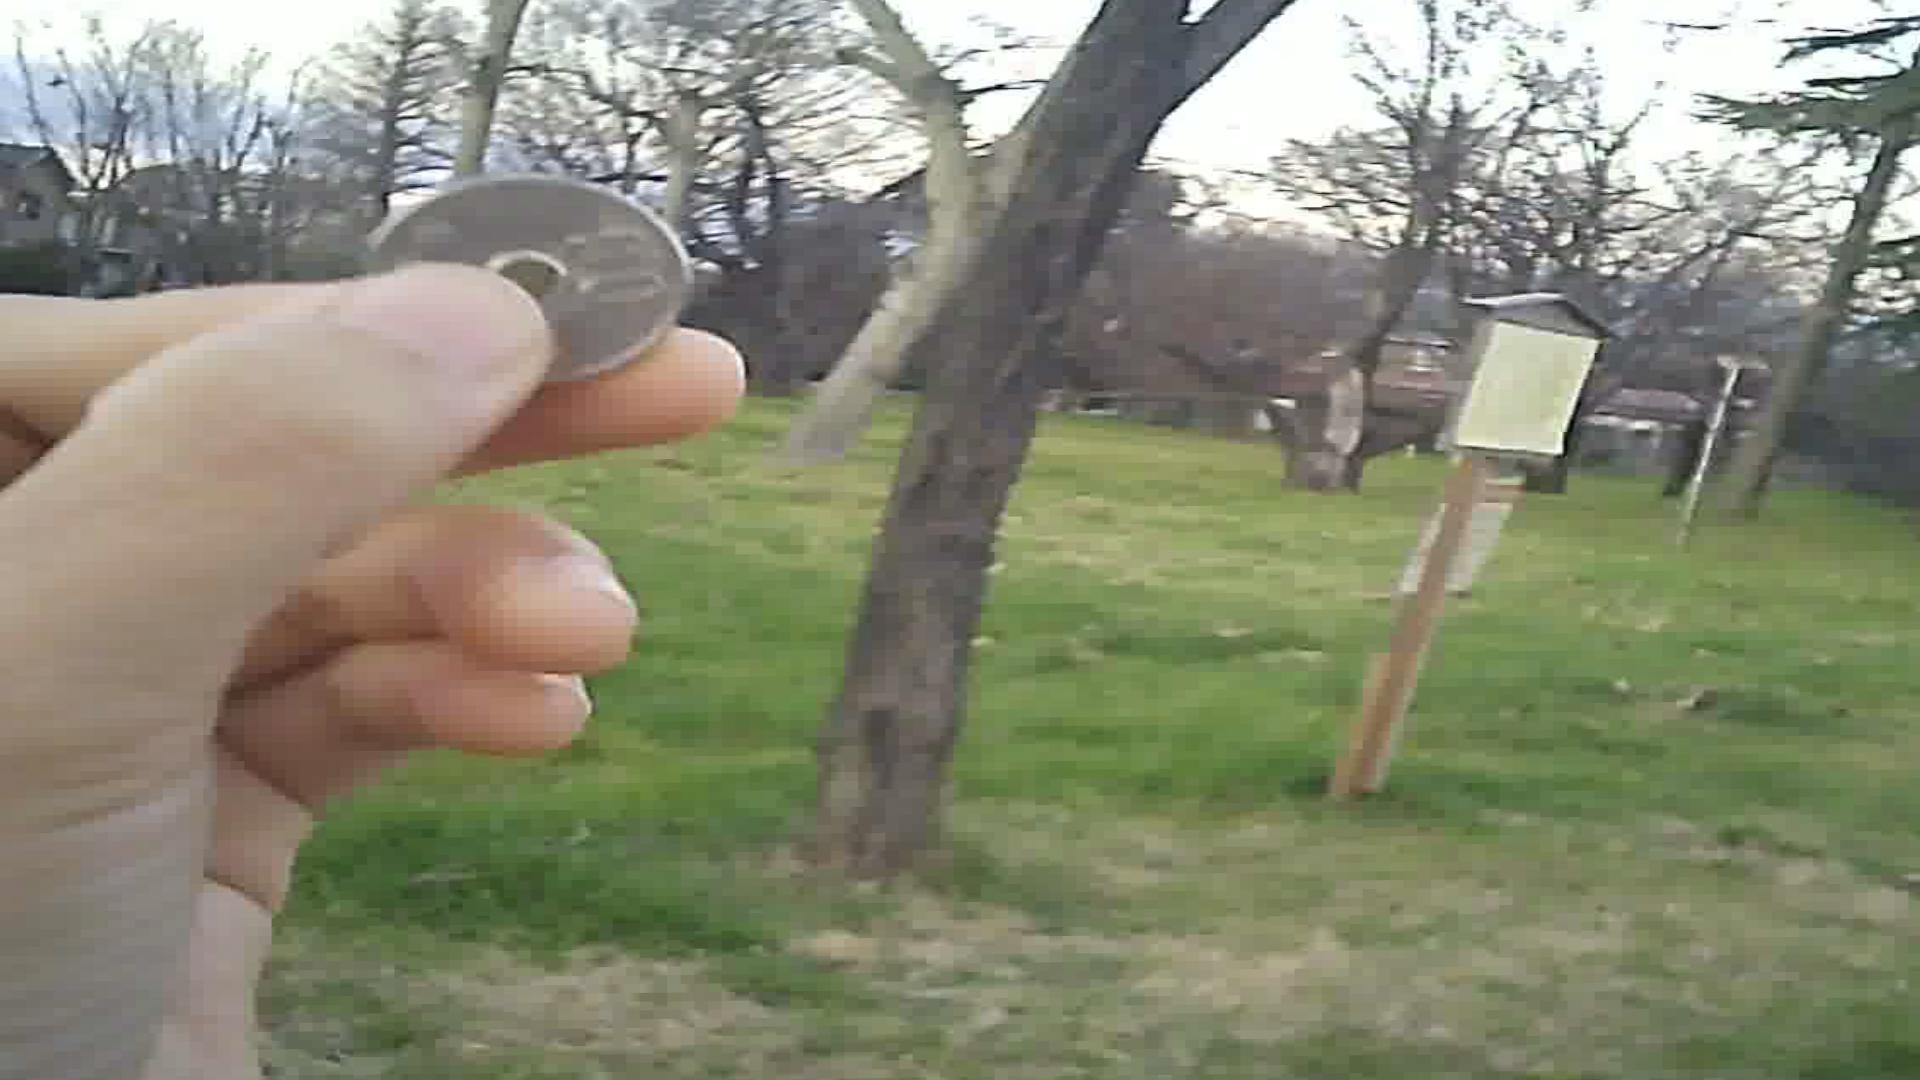50 Yen: (347, 177, 694, 407)
